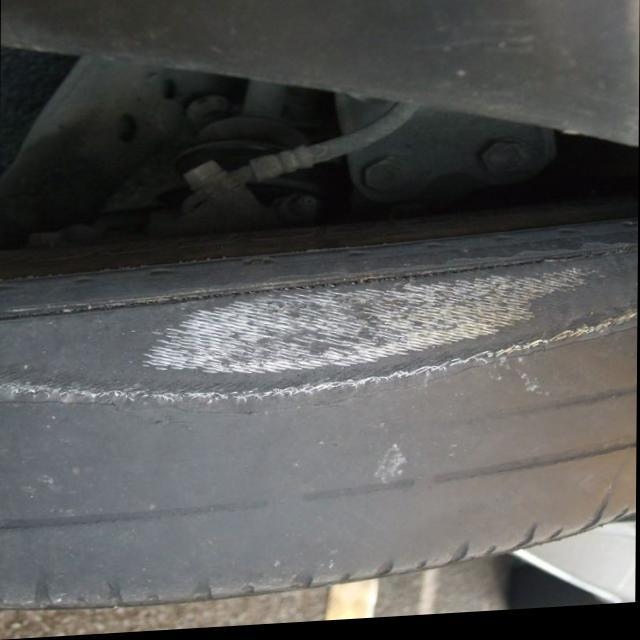Flat spots: (0, 197, 637, 608)
